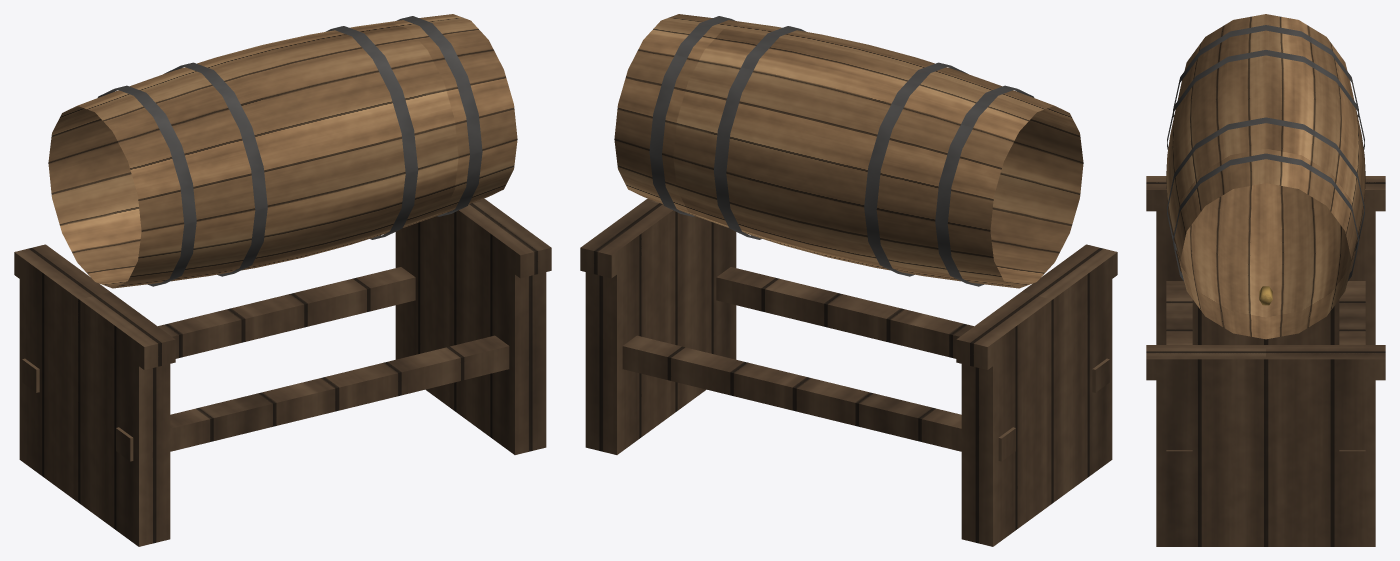
Rendered from Barrel_Holder.gltf.
The picture shows the model from 3 angles, left to right: view 1: azimuth 30°, elevation 25°; view 2: azimuth 150°, elevation 25°; view 3: azimuth 270°, elevation 25°; orthographic projection. The views are drawn at different scales.
Parts seen in each view (by area): view 1: Barrel_Holder; view 2: Barrel_Holder; view 3: Barrel_Holder.
Part boxes in pixels (box(x1,y1,x2,y2)): Barrel_Holder: box(14, 14, 551, 546); Barrel_Holder: box(580, 14, 1117, 546); Barrel_Holder: box(1146, 14, 1385, 546).
Bounding box in the file's own units: 1.36 × 1.26 × 0.74.
Materials: 4 (4 with a texture image).
